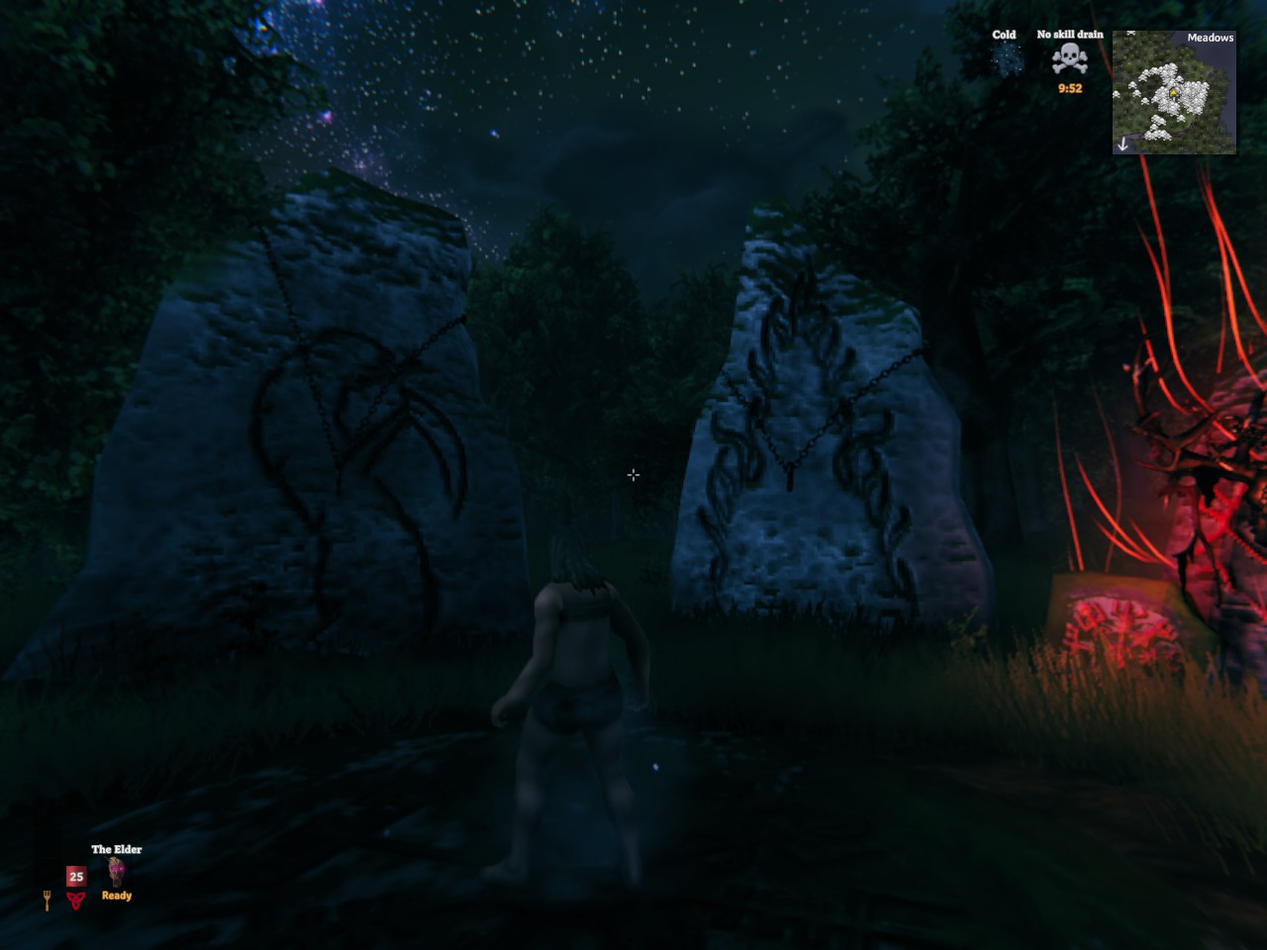Rune Stone: (1046, 572, 1218, 670)
